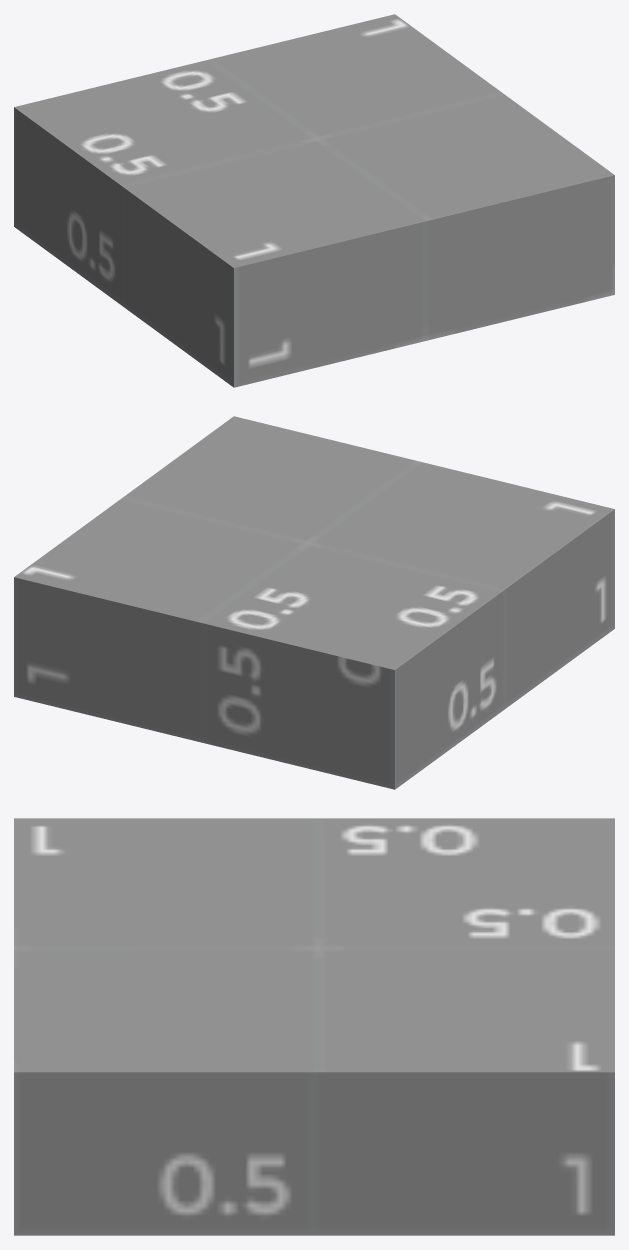
3 renders of one model, top to bottom at view 1: azimuth 30°, elevation 25°; view 2: azimuth 150°, elevation 25°; view 3: azimuth 270°, elevation 25°, orthographic. The views are drawn at different scales.
Visible parts, largest first — view 1: Cube_1_3; view 2: Cube_1_3; view 3: Cube_1_3.
Boxes of the visible parts, bbox=[...] form: Cube_1_3: bbox=[14, 14, 614, 387]; Cube_1_3: bbox=[14, 416, 614, 789]; Cube_1_3: bbox=[14, 818, 614, 1235].
Size of the model in its own units: 1 by 0.3 by 1.
